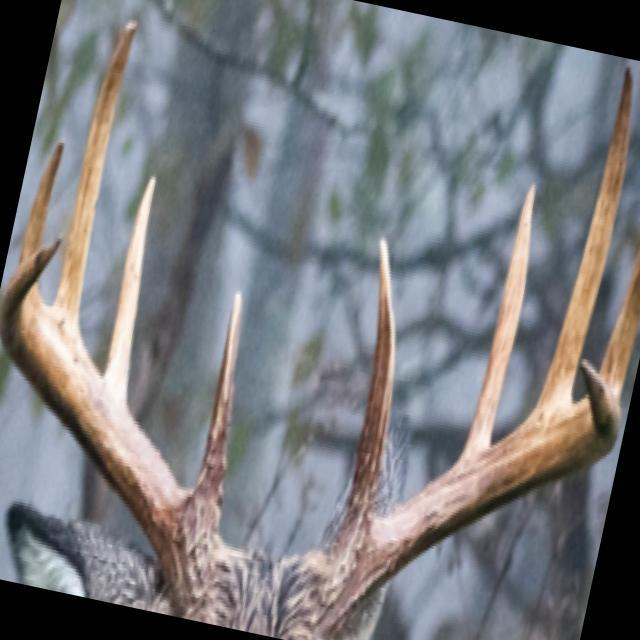L-F: (315, 357, 622, 636)
L-G1: (344, 234, 396, 528)
L-G2: (459, 182, 536, 460)
L-G3: (531, 68, 633, 414)
R-F: (0, 233, 225, 617)
R-G1: (192, 289, 242, 532)
R-G2: (103, 174, 156, 401)
R-G3: (51, 19, 138, 335)
